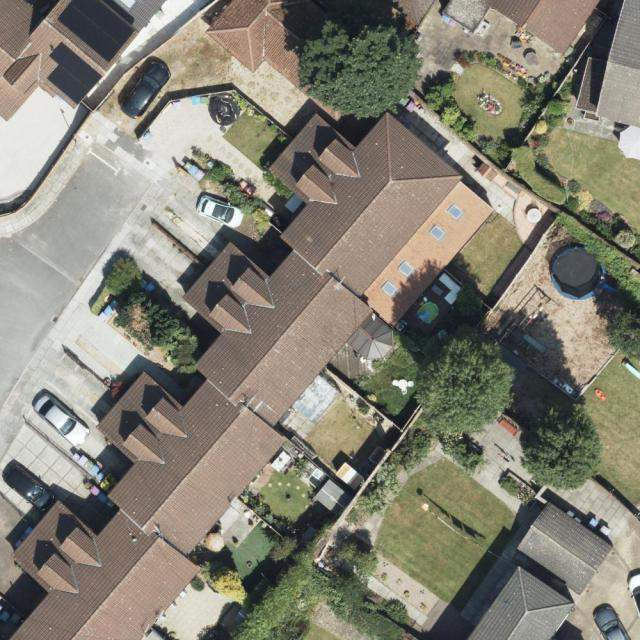roof: (0, 110, 499, 640), (207, 0, 387, 122), (0, 0, 145, 124), (440, 0, 602, 60), (517, 502, 612, 596), (573, 0, 640, 131), (464, 563, 579, 638)
skylight: (445, 201, 468, 223), (396, 258, 418, 280), (425, 223, 449, 243), (379, 280, 399, 298)
solar: (55, 0, 137, 64), (45, 38, 106, 104)
